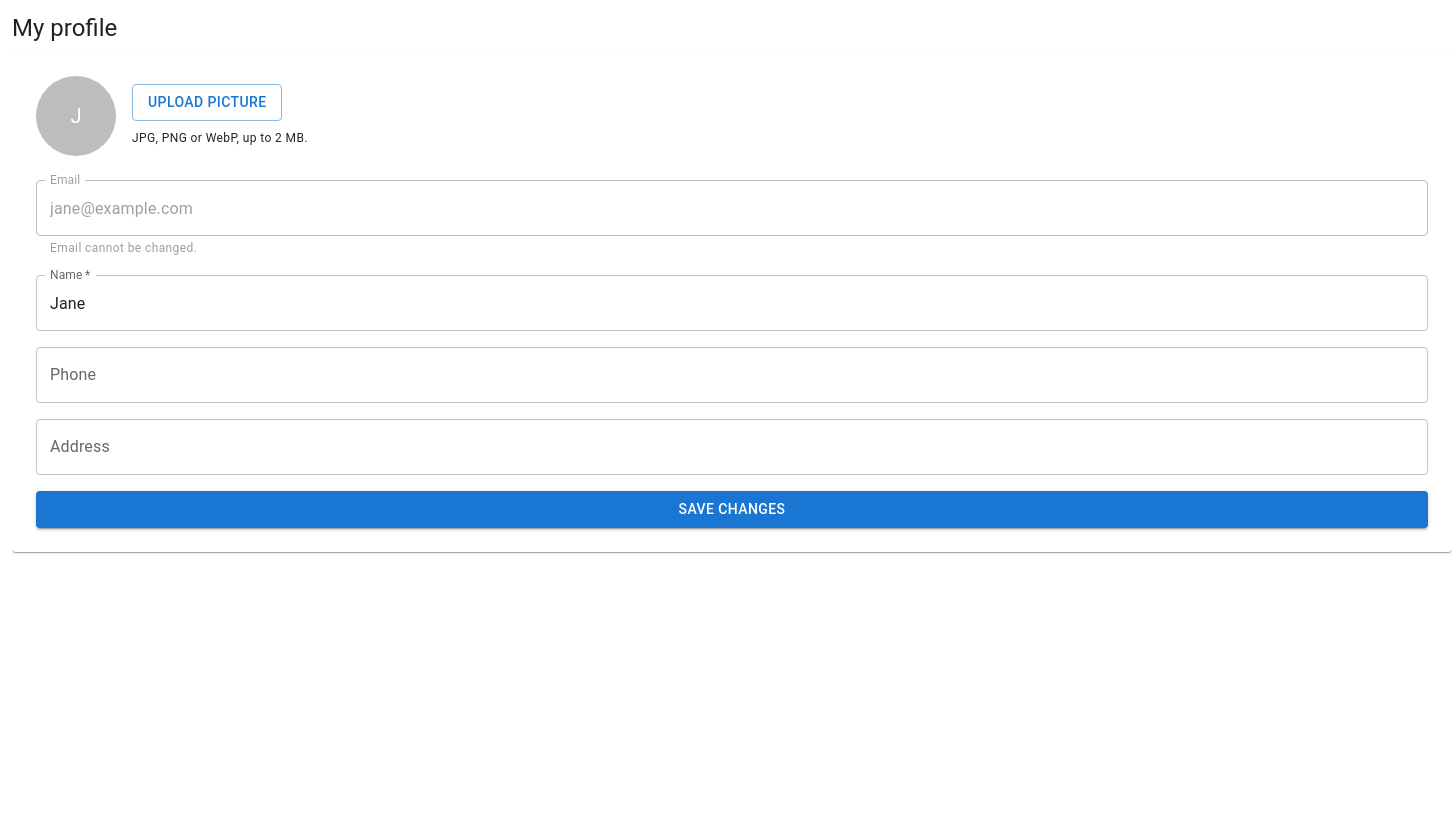
Test: ProfilePage › shows server validation errors under the field
This screenshot has width=1452, height=822.
In the field labelled "Phone": (732, 375) x1=36 y1=347 x2=1428 y2=403, type "abc"
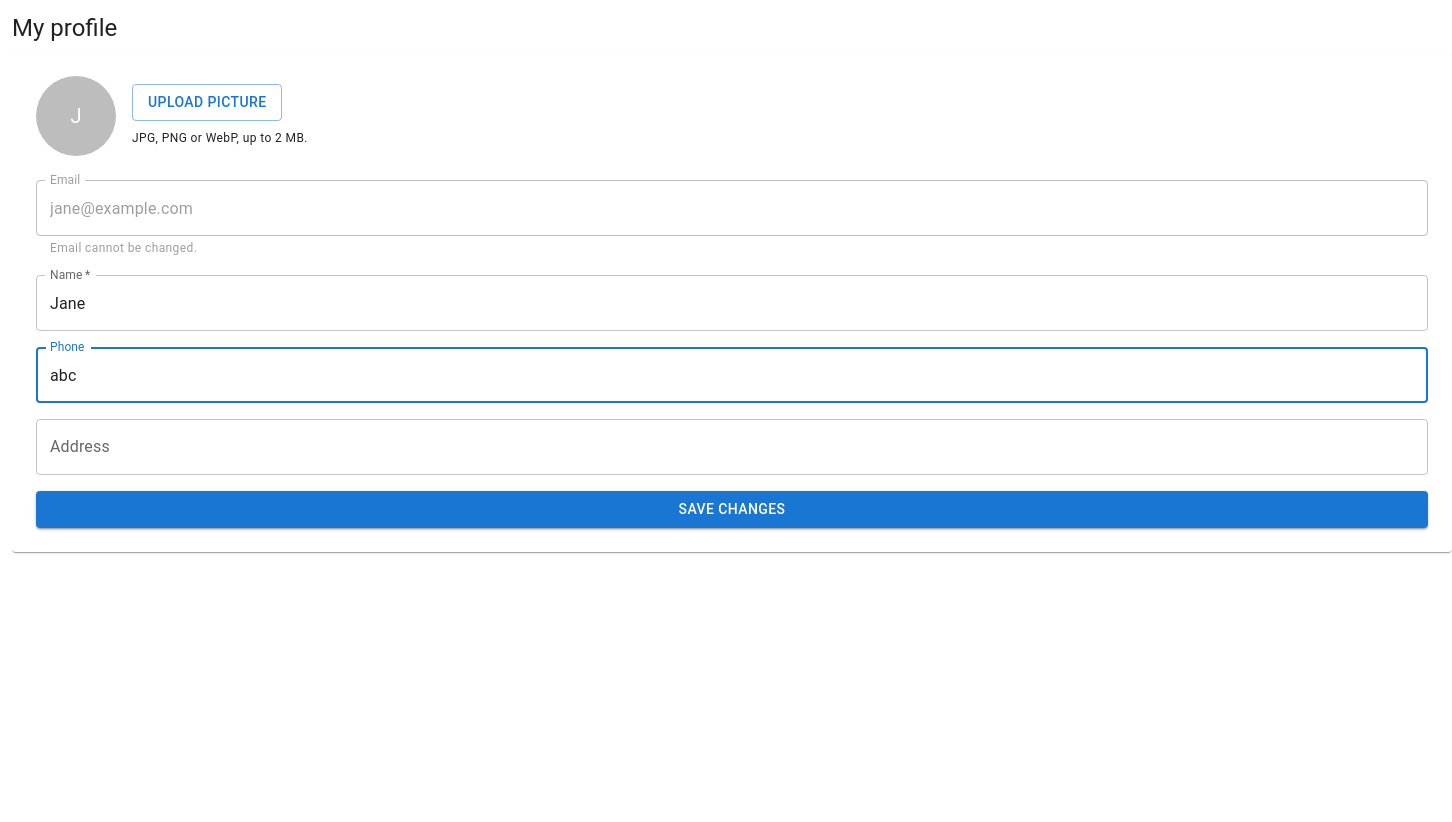
Click the button "Save changes": (732, 510) x1=36 y1=491 x2=1428 y2=528
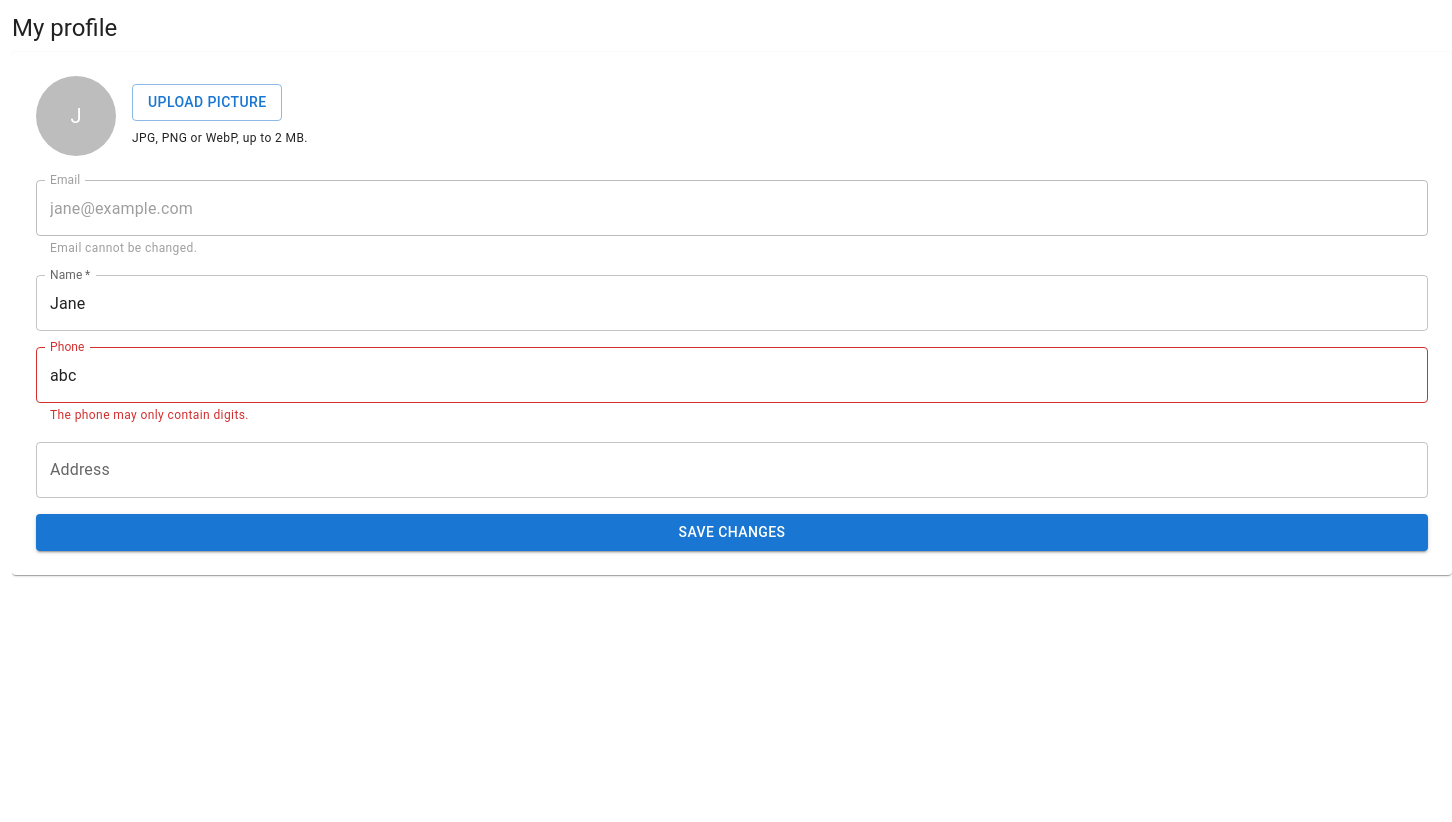
Expected: the text "The phone may only contain digits." is shown, x1=50 y1=408 x2=249 y2=422
